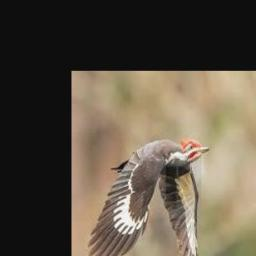Woodpecker: (87, 139, 209, 256)
